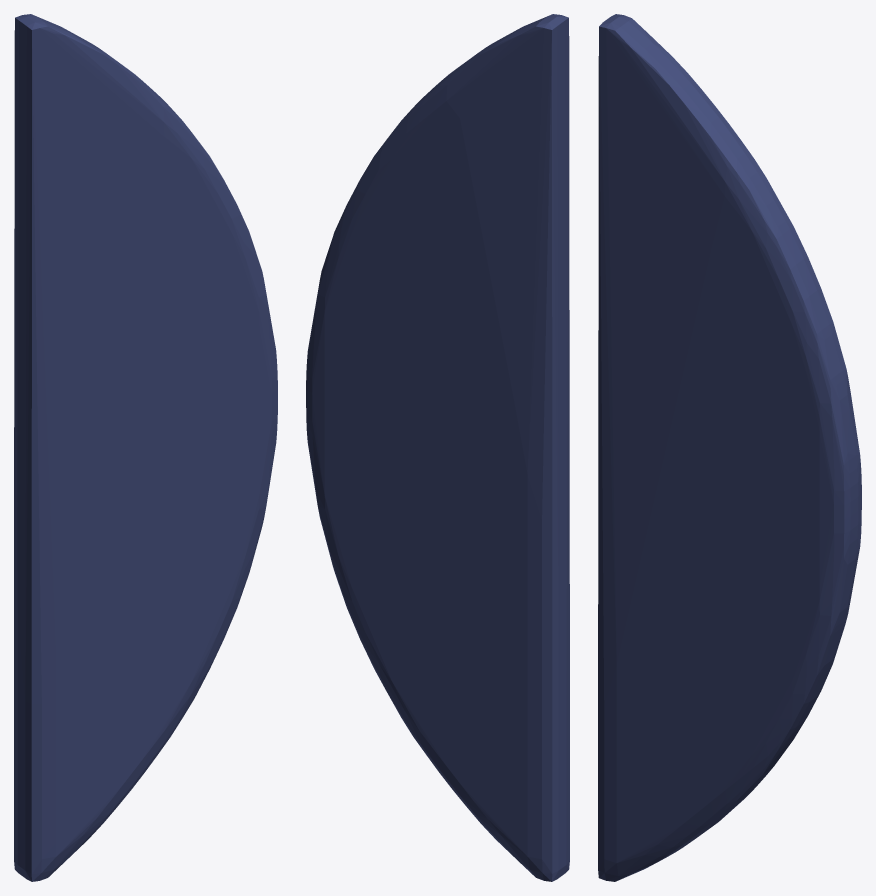
Rendered from right_forearm_0_part_16.obj.
3 views of the same model, side by side, from view 1: azimuth 30°, elevation 25°; view 2: azimuth 150°, elevation 25°; view 3: azimuth 330°, elevation 25° (orthographic).
Size of the model in its own units: 35.88 by 118 by 5.89.
